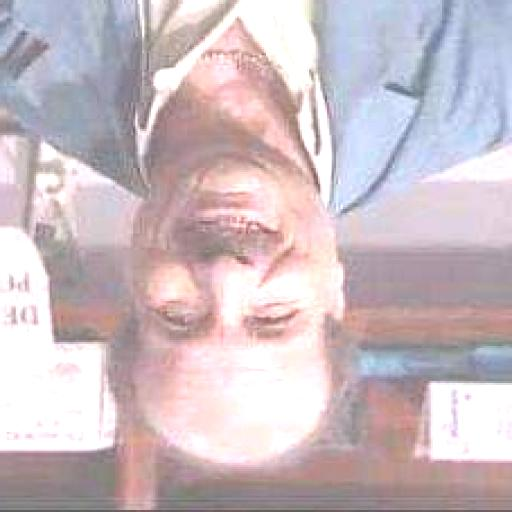beji_matrix: (113, 154, 354, 471)
